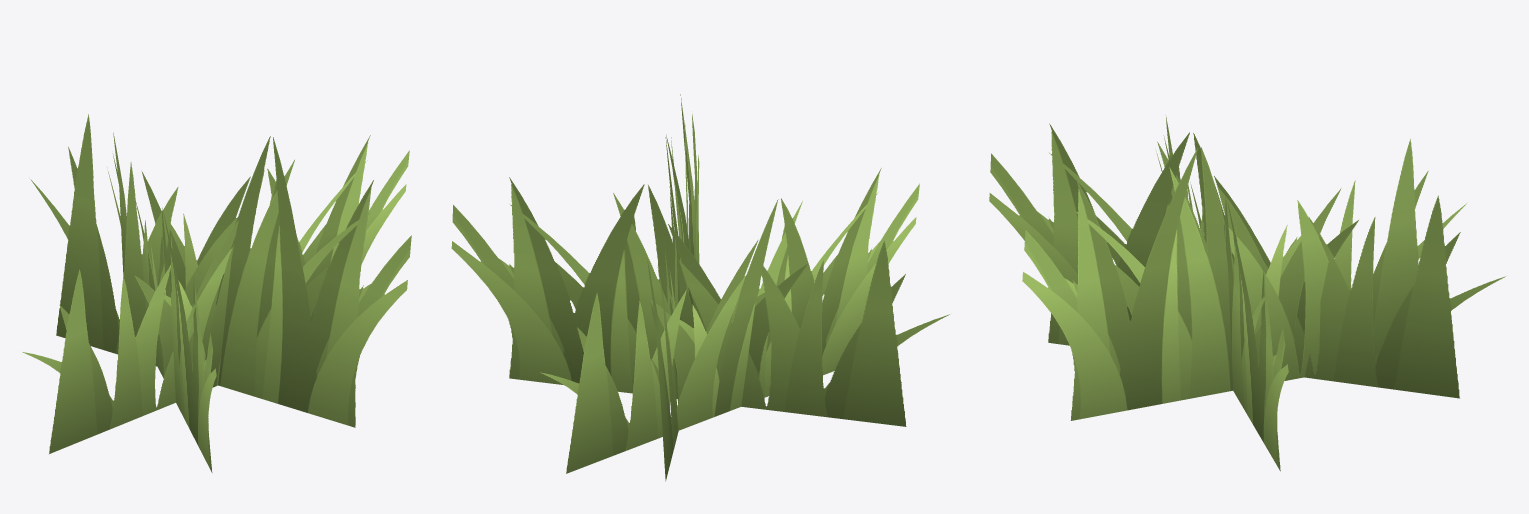
Rendered from alpine_grass_1_mid.glb.
3 renders of one model, left to right at view 1: azimuth 30°, elevation 25°; view 2: azimuth 150°, elevation 25°; view 3: azimuth 270°, elevation 25°, orthographic. The views are drawn at different scales.
Parts seen in each view (by area): view 1: alpine_grass_1_mid; view 2: alpine_grass_1_mid; view 3: alpine_grass_1_mid.
Boxes of the visible parts, <box> form: alpine_grass_1_mid: <box>22,114,411,472</box>; alpine_grass_1_mid: <box>451,94,949,481</box>; alpine_grass_1_mid: <box>989,116,1505,471</box>.
Bounding box in the file's own units: 0.5373 × 0.3383 × 0.5177.
Materials: 1 (1 with a texture image).
